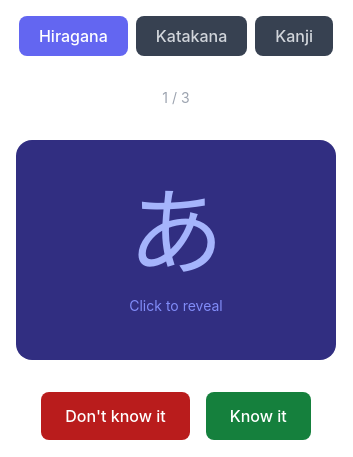
FlashCardPage › dont_know_it_advances_to_next_card
Expected: the text "1 / 3" is shown, [162,88,190,108]
Click the button "Don't know it". click: (116,416)
box: [41,392,190,440]
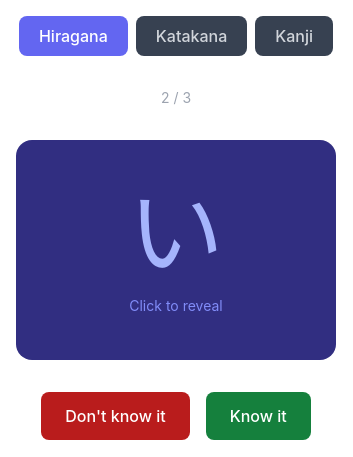
Expected: the text "2 / 3" is shown, [161,88,191,108]
